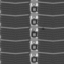dust: (40, 27, 45, 30)
